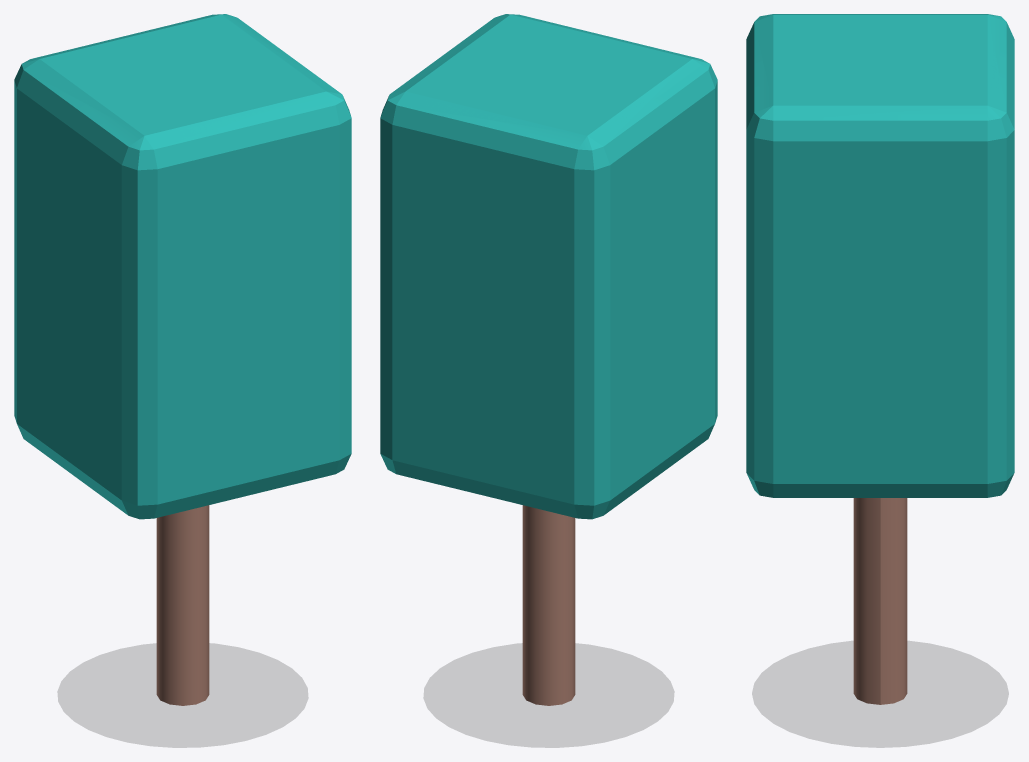
File: tree.glb
3 renders of one model, left to right at view 1: azimuth 30°, elevation 25°; view 2: azimuth 150°, elevation 25°; view 3: azimuth 270°, elevation 25°, orthographic. The views are drawn at different scales.
Visible parts, largest first — view 1: leaves, Circle, trunk; view 2: leaves, Circle, trunk; view 3: leaves, Circle, trunk.
Part boxes in pixels (bbox=[...]): leaves: bbox=[14, 14, 351, 519]; Circle: bbox=[58, 643, 307, 747]; trunk: bbox=[156, 505, 209, 705]; leaves: bbox=[380, 14, 717, 519]; Circle: bbox=[424, 643, 673, 747]; trunk: bbox=[522, 505, 575, 705]; leaves: bbox=[746, 14, 1014, 497]; Circle: bbox=[752, 641, 1008, 747]; trunk: bbox=[853, 498, 907, 704].
Size of the model in its own units: 1 by 2.6 by 1.
